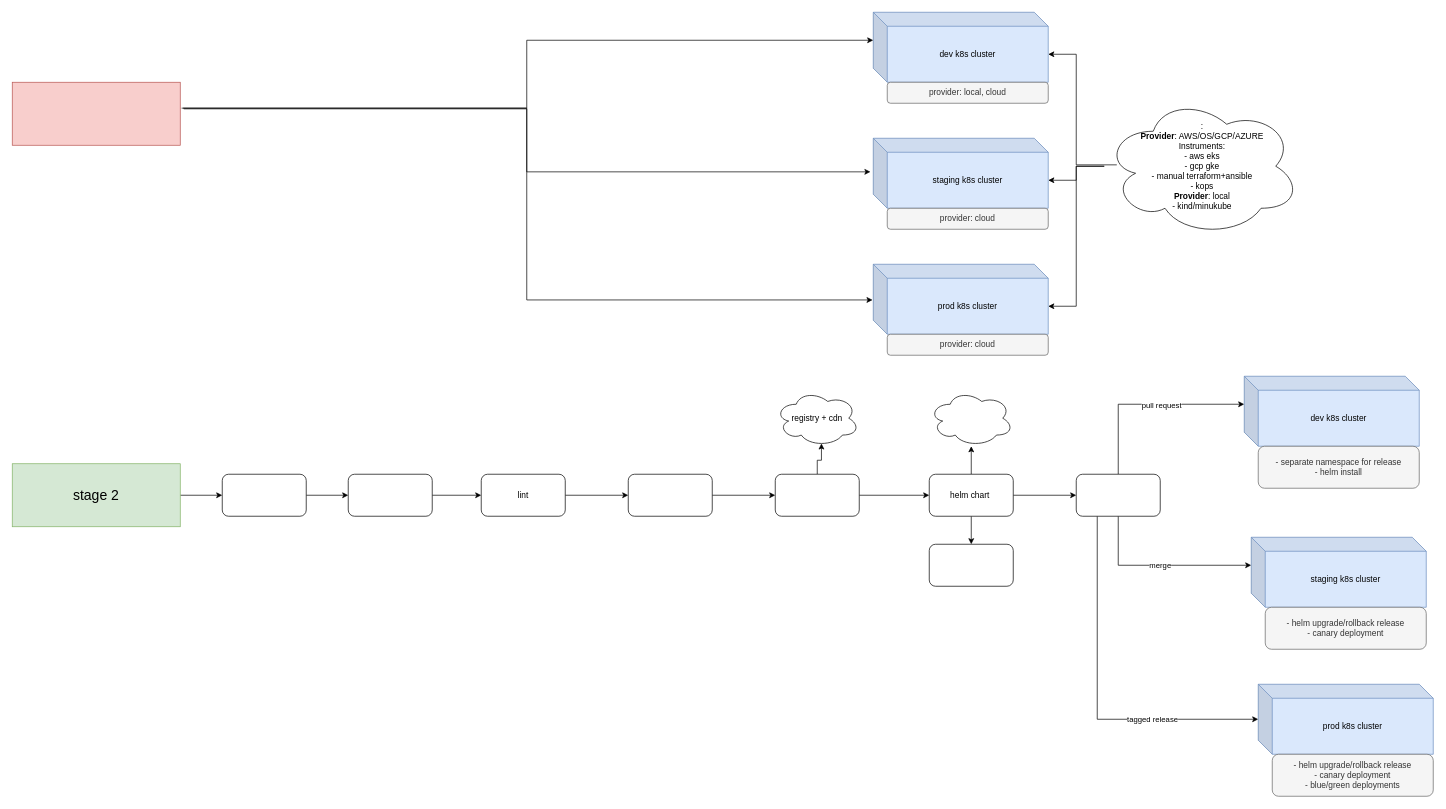
Image size: 1446x809. Some labels were removed from this diagram. The centre of each missing label's shape, as x and y in pixels:
"app source code" belongs at (x=264, y=495).
"bin storage + cdn" belongs at (x=971, y=418).
"dependencies chart" belongs at (x=971, y=565).
"docker image" belongs at (x=817, y=495).
"go binary" belongs at (x=670, y=495).
"k8s resource" belongs at (x=1118, y=495).
"stage 1" belongs at (x=96, y=113).
"versioning: server" belongs at (x=390, y=495).
